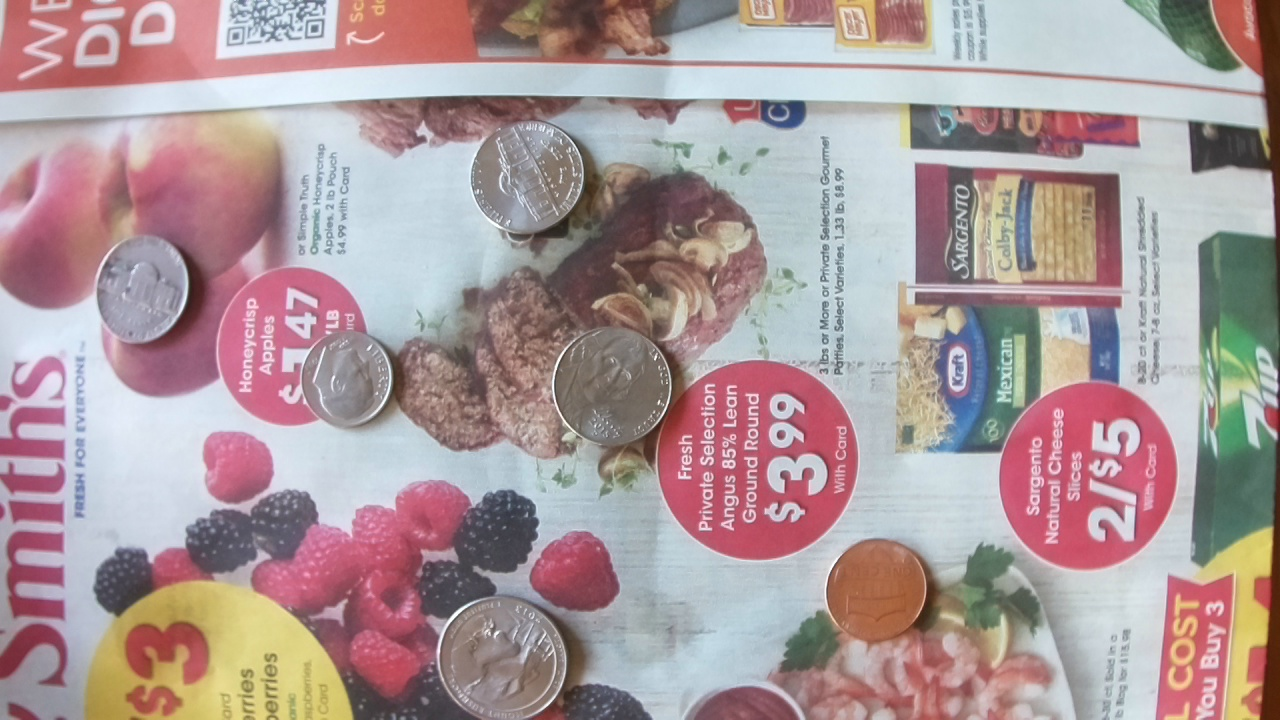dime: (301, 329, 395, 430)
nickel: (553, 325, 671, 446), (469, 119, 584, 233), (93, 234, 192, 344)
penny: (824, 537, 929, 643)
quarter: (436, 594, 568, 718)
